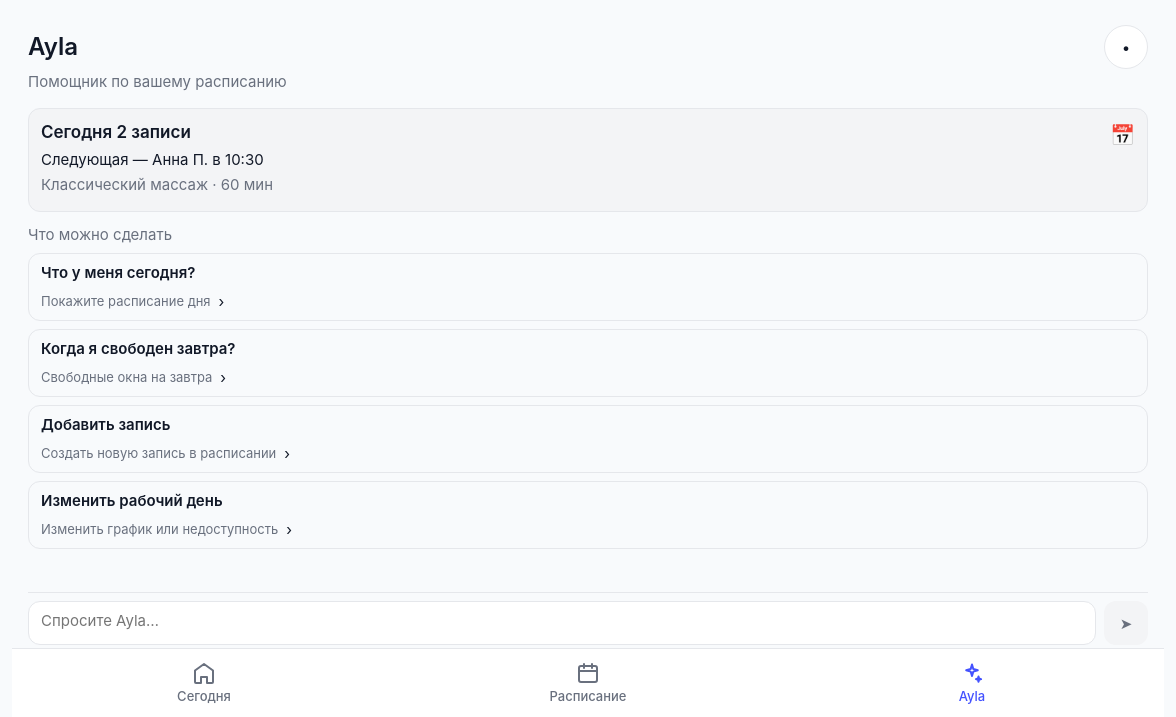
Test: 1 · стартовый экран › чип отправляет фразу как вопрос
This screenshot has width=1176, height=717.
Click the button "Когда я свободен завтра? Свободные окна на завтра ›".
click(138, 348)  # box [28,329,1148,397]
(page scrolled)
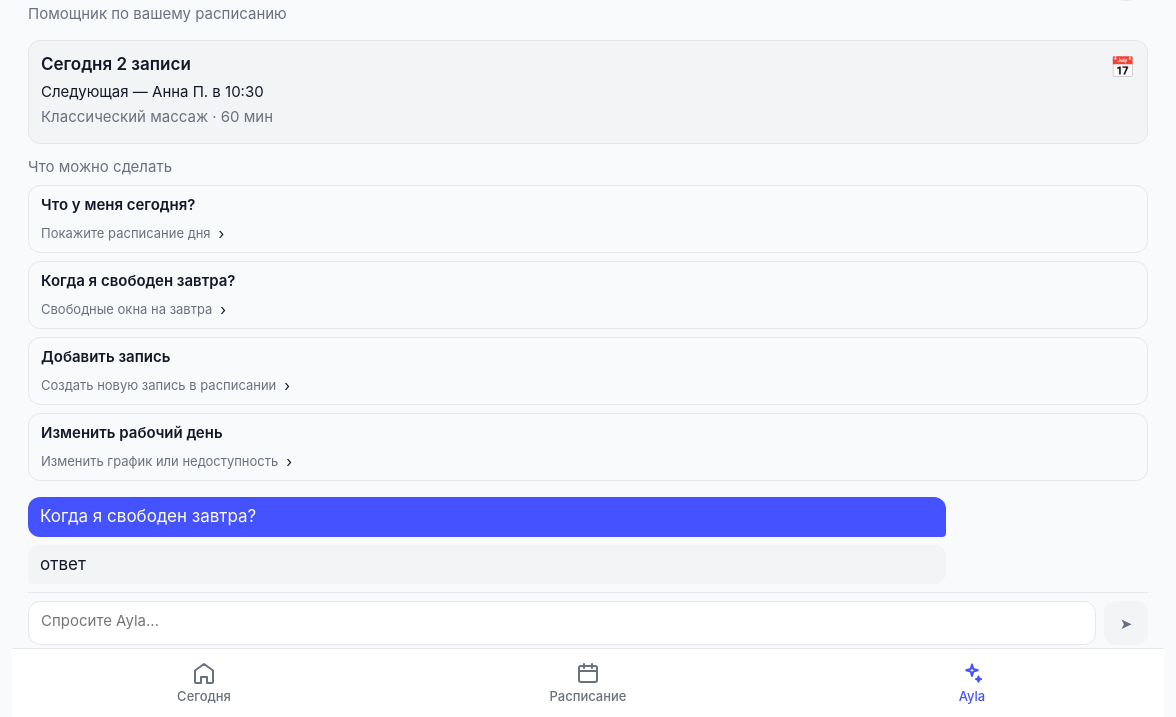
expect the 2nd text "Когда я свободен завтра?" is shown: met, box [40,506,256,526]
